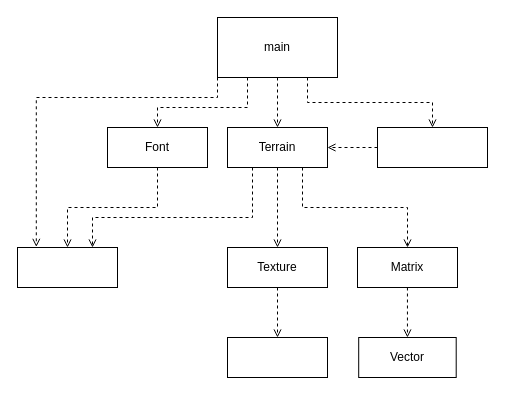
Image size: 505x395. Some labels were removed from this diagram. Each missing label, with the box of its shape:
DynamicCamera: (376, 126, 488, 168)
Image: (226, 336, 328, 378)
Render: (16, 246, 118, 288)
